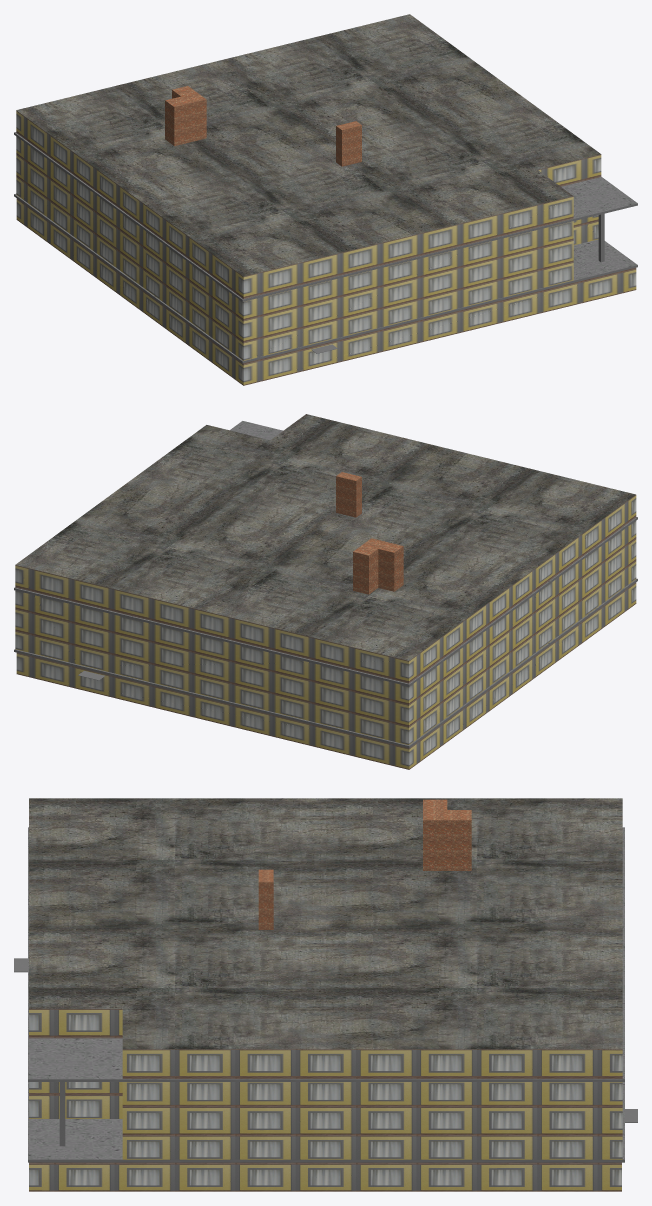
Rendered from LOD01_Building_3stores_School.obj.
The picture shows the model from 3 angles, top to bottom: view 1: azimuth 30°, elevation 25°; view 2: azimuth 150°, elevation 25°; view 3: azimuth 270°, elevation 25°; orthographic projection. The views are drawn at different scales.
Visible parts, largest first — view 1: LOD01_Building_3stores_School; view 2: LOD01_Building_3stores_School; view 3: LOD01_Building_3stores_School.
Boxes of the visible parts, x1=… form: LOD01_Building_3stores_School: x1=14, y1=14, x2=637, y2=385; LOD01_Building_3stores_School: x1=14, y1=414, x2=637, y2=769; LOD01_Building_3stores_School: x1=14, y1=798, x2=637, y2=1191.
Size of the model in its own units: 19.75 by 7.08 by 20.67.
